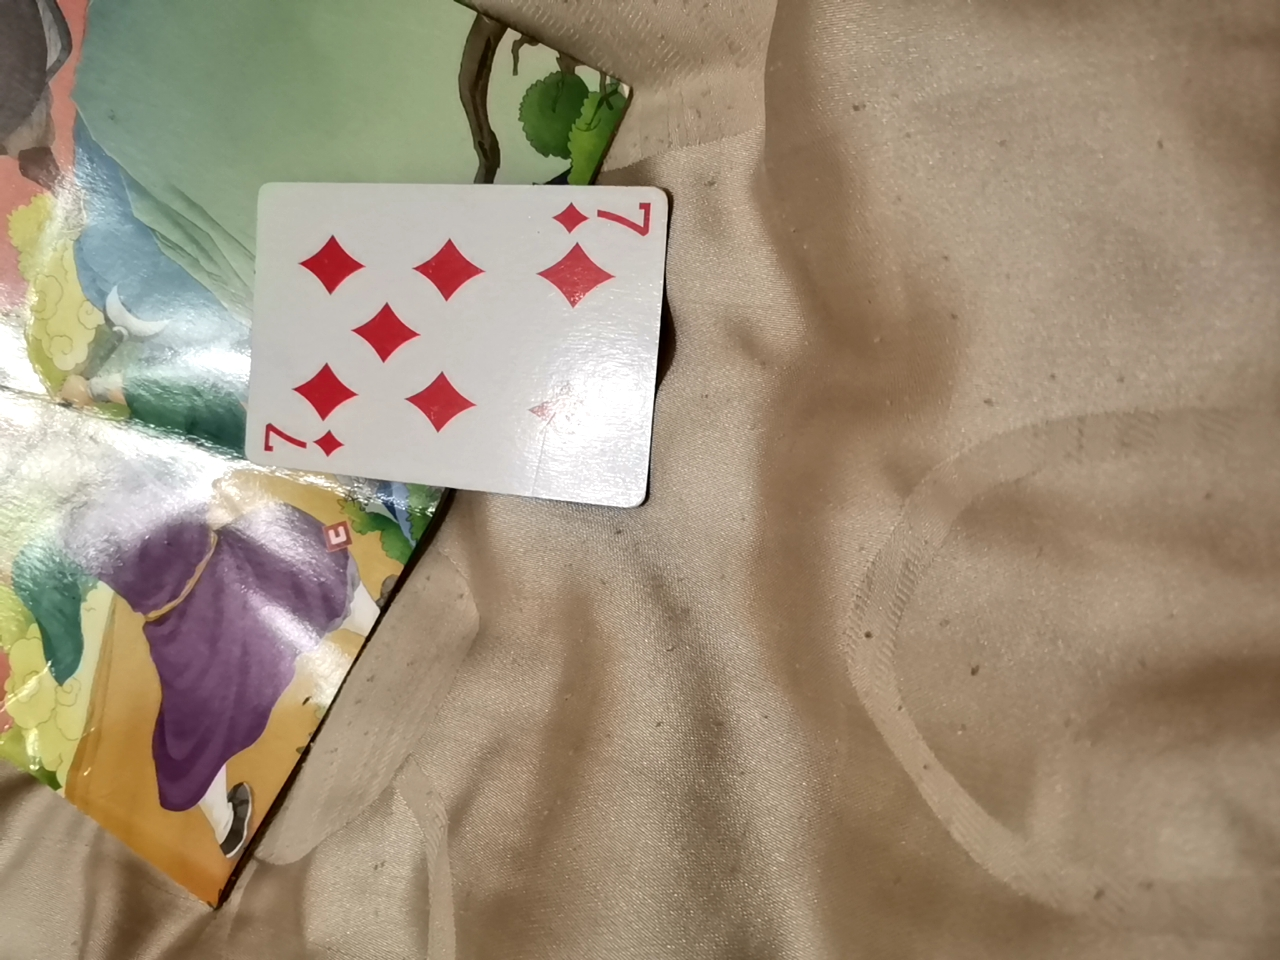fk 7: (233, 169, 656, 497)
